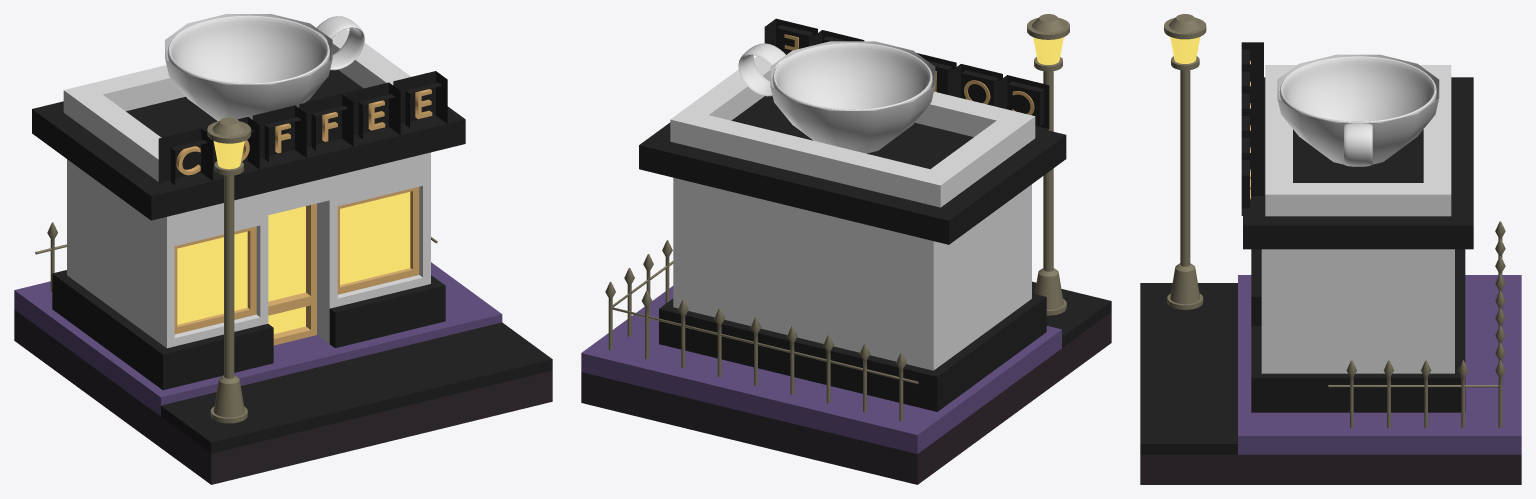
Rendered from Coffee-Shop-Tutorial.gltf.
3 views of the same model, side by side, from view 1: azimuth 30°, elevation 25°; view 2: azimuth 150°, elevation 25°; view 3: azimuth 270°, elevation 25° (orthographic). The views are drawn at different scales.
Visible parts, largest first — view 1: Plane.002, Plane.001, Plane, Plane.004, Plane.020, Plane.021, Plane.019, Plane.003, Plane.005, Circle.001, Plane.012, Plane.006 (+8 smaller); view 2: Plane.002, Plane.019, Plane.004, Plane.005, Plane, Plane.021, Plane.003, Plane.012, Circle.001, Plane.009, Plane.001, Plane.013 (+5 smaller); view 3: Plane.002, Plane.019, Plane.001, Plane.004, Plane, Plane.005, Plane.021, Plane.003, Circle.001, Plane.012, Plane.009, Plane.018 (+7 smaller).
Part boxes in pixels (x1=…): Plane.002: x1=67, y1=152, x2=430, y2=348; Plane.001: x1=161, y1=322, x2=552, y2=453; Plane: x1=14, y1=309, x2=552, y2=484; Plane.004: x1=32, y1=70, x2=465, y2=220; Plane.020: x1=177, y1=192, x2=410, y2=333; Plane.021: x1=52, y1=270, x2=445, y2=390; Plane.019: x1=14, y1=262, x2=502, y2=416; Plane.003: x1=167, y1=15, x2=329, y2=84; Plane.005: x1=63, y1=29, x2=410, y2=181; Circle.001: x1=207, y1=117, x2=251, y2=423; Plane.012: x1=165, y1=14, x2=332, y2=121; Plane.006: x1=174, y1=187, x2=419, y2=334; Plane.002: x1=673, y1=177, x2=1031, y2=370; Plane.019: x1=581, y1=286, x2=1061, y2=453; Plane.004: x1=639, y1=96, x2=1066, y2=244; Plane.005: x1=670, y1=56, x2=1035, y2=207; Plane: x1=581, y1=312, x2=1111, y2=484; Plane.021: x1=659, y1=293, x2=1046, y2=411; Plane.003: x1=772, y1=43, x2=932, y2=110; Plane.012: x1=770, y1=41, x2=935, y2=153; Circle.001: x1=1027, y1=14, x2=1069, y2=315; Plane.009: x1=605, y1=240, x2=906, y2=421; Plane.001: x1=1032, y1=281, x2=1111, y2=347; Plane.013: x1=996, y1=75, x2=1049, y2=137; Plane.002: x1=1261, y1=249, x2=1454, y2=373; Plane.019: x1=1238, y1=275, x2=1521, y2=454; Plane.001: x1=1140, y1=283, x2=1237, y2=454; Plane.004: x1=1243, y1=77, x2=1473, y2=249; Plane: x1=1140, y1=454, x2=1521, y2=484; Plane.005: x1=1265, y1=65, x2=1451, y2=216; Plane.021: x1=1251, y1=249, x2=1465, y2=412; Plane.003: x1=1279, y1=56, x2=1436, y2=122; Circle.001: x1=1164, y1=14, x2=1206, y2=309; Plane.012: x1=1277, y1=54, x2=1439, y2=164; Plane.009: x1=1346, y1=221, x2=1505, y2=427; Plane.018: x1=1241, y1=153, x2=1263, y2=215.
Size of what is drawn, in the model's own units: 8.17 by 7.54 by 8.
